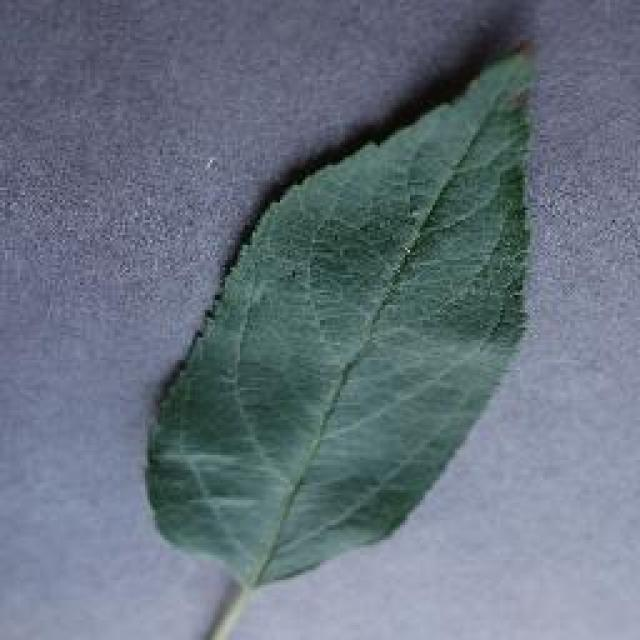apple healthy: (140, 35, 540, 595)
